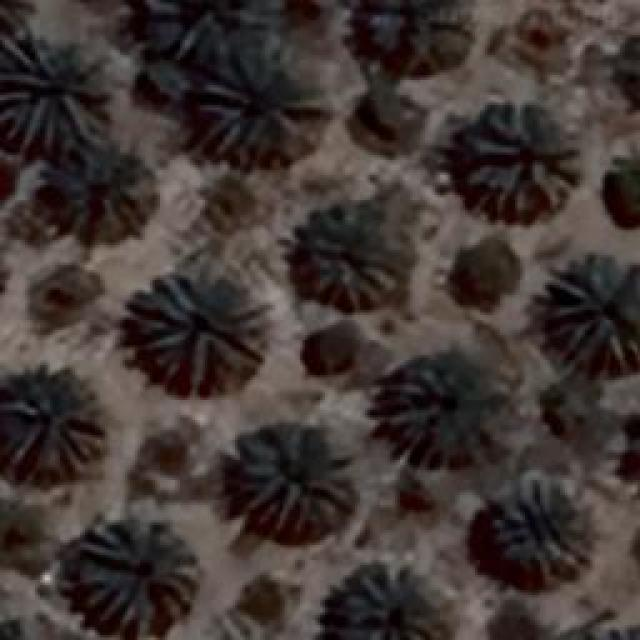PalmTree: (125, 270, 265, 392), (195, 44, 323, 168), (375, 357, 520, 465), (75, 515, 203, 635), (227, 422, 355, 542), (462, 102, 582, 222), (0, 29, 110, 152), (52, 137, 160, 245), (540, 255, 635, 375), (295, 205, 400, 305), (490, 475, 588, 580), (0, 387, 102, 474), (330, 560, 442, 638), (365, 0, 473, 70), (77, 32, 208, 63), (603, 140, 640, 238), (193, 615, 301, 640), (614, 400, 640, 498), (614, 27, 640, 117), (0, 612, 78, 640), (623, 396, 640, 500), (621, 28, 640, 118), (17, 22, 77, 44), (629, 403, 640, 502)
